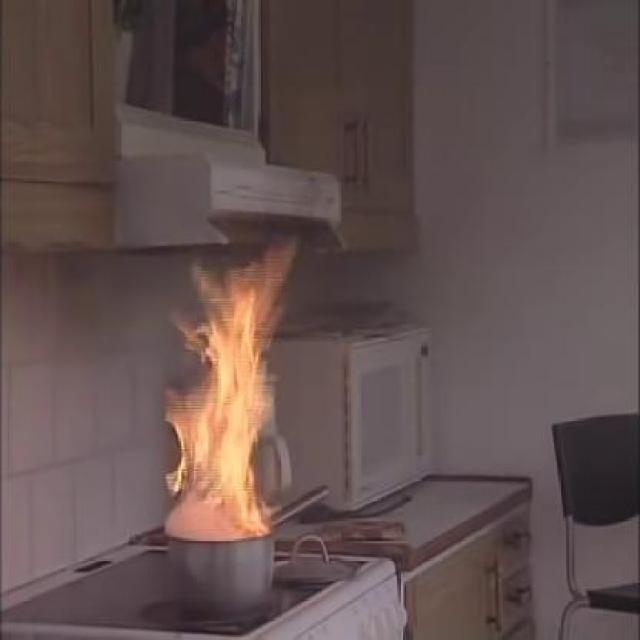fire: (146, 230, 320, 528)
